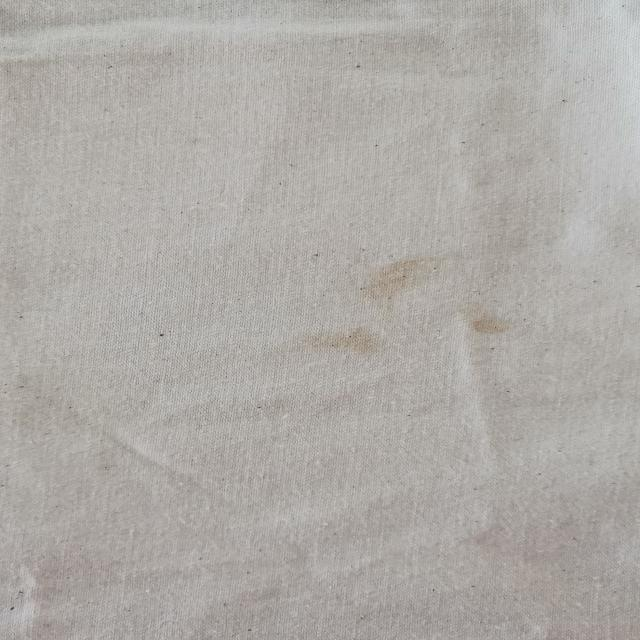taaaches: (359, 251, 455, 317), (291, 325, 393, 365), (462, 312, 536, 358)
